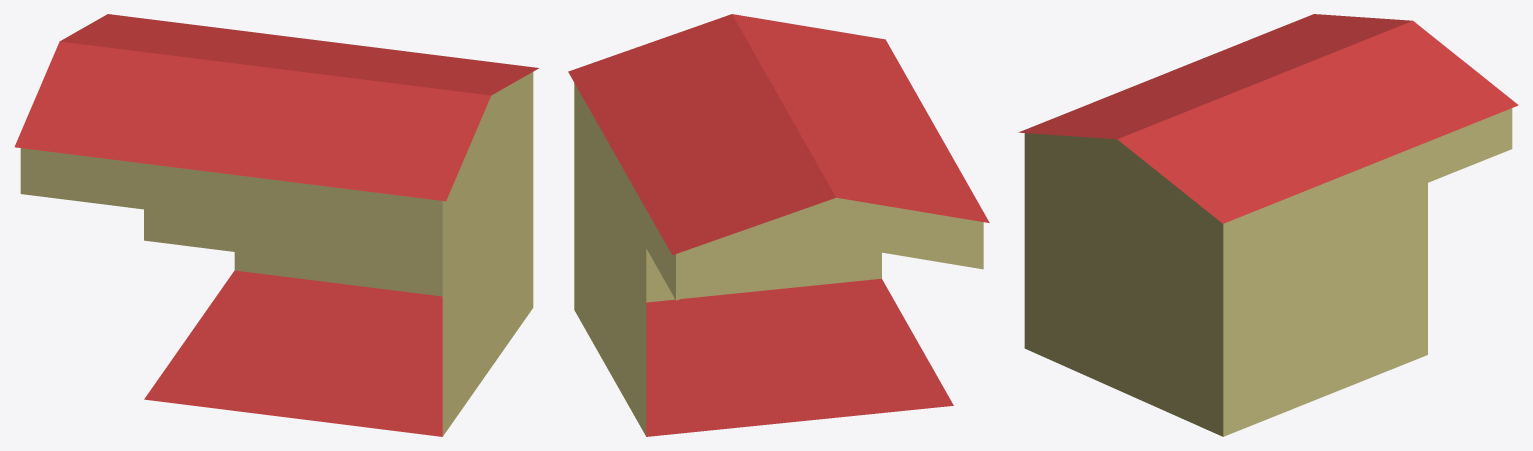
3 views of the same model, side by side, from view 1: azimuth 30°, elevation 25°; view 2: azimuth 150°, elevation 25°; view 3: azimuth 270°, elevation 25° (orthographic). The views are drawn at different scales.
Size of the model in its own units: 26.62 by 26.84 by 14.98.
